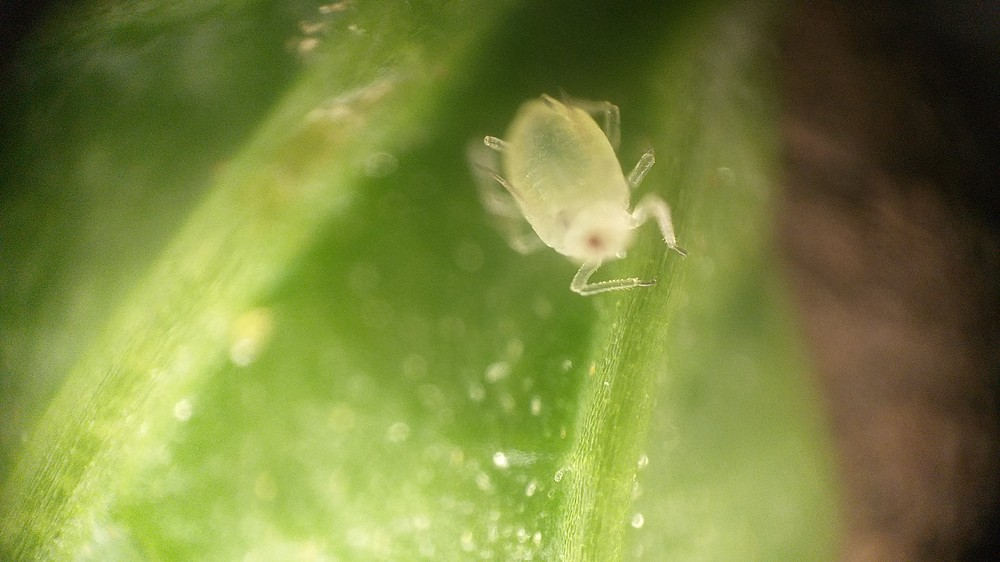Pulgon: (448, 78, 717, 325)
